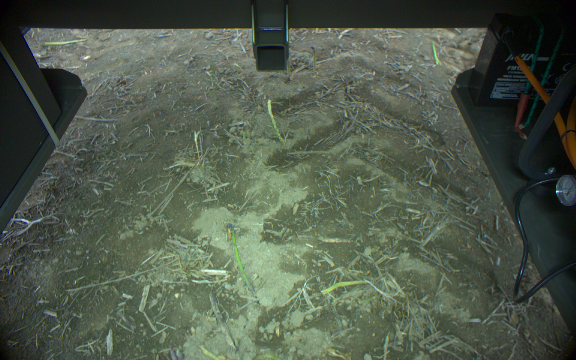aspa: (225, 218, 255, 295), (319, 278, 371, 298), (266, 98, 285, 144), (41, 37, 89, 48), (429, 42, 441, 66)
